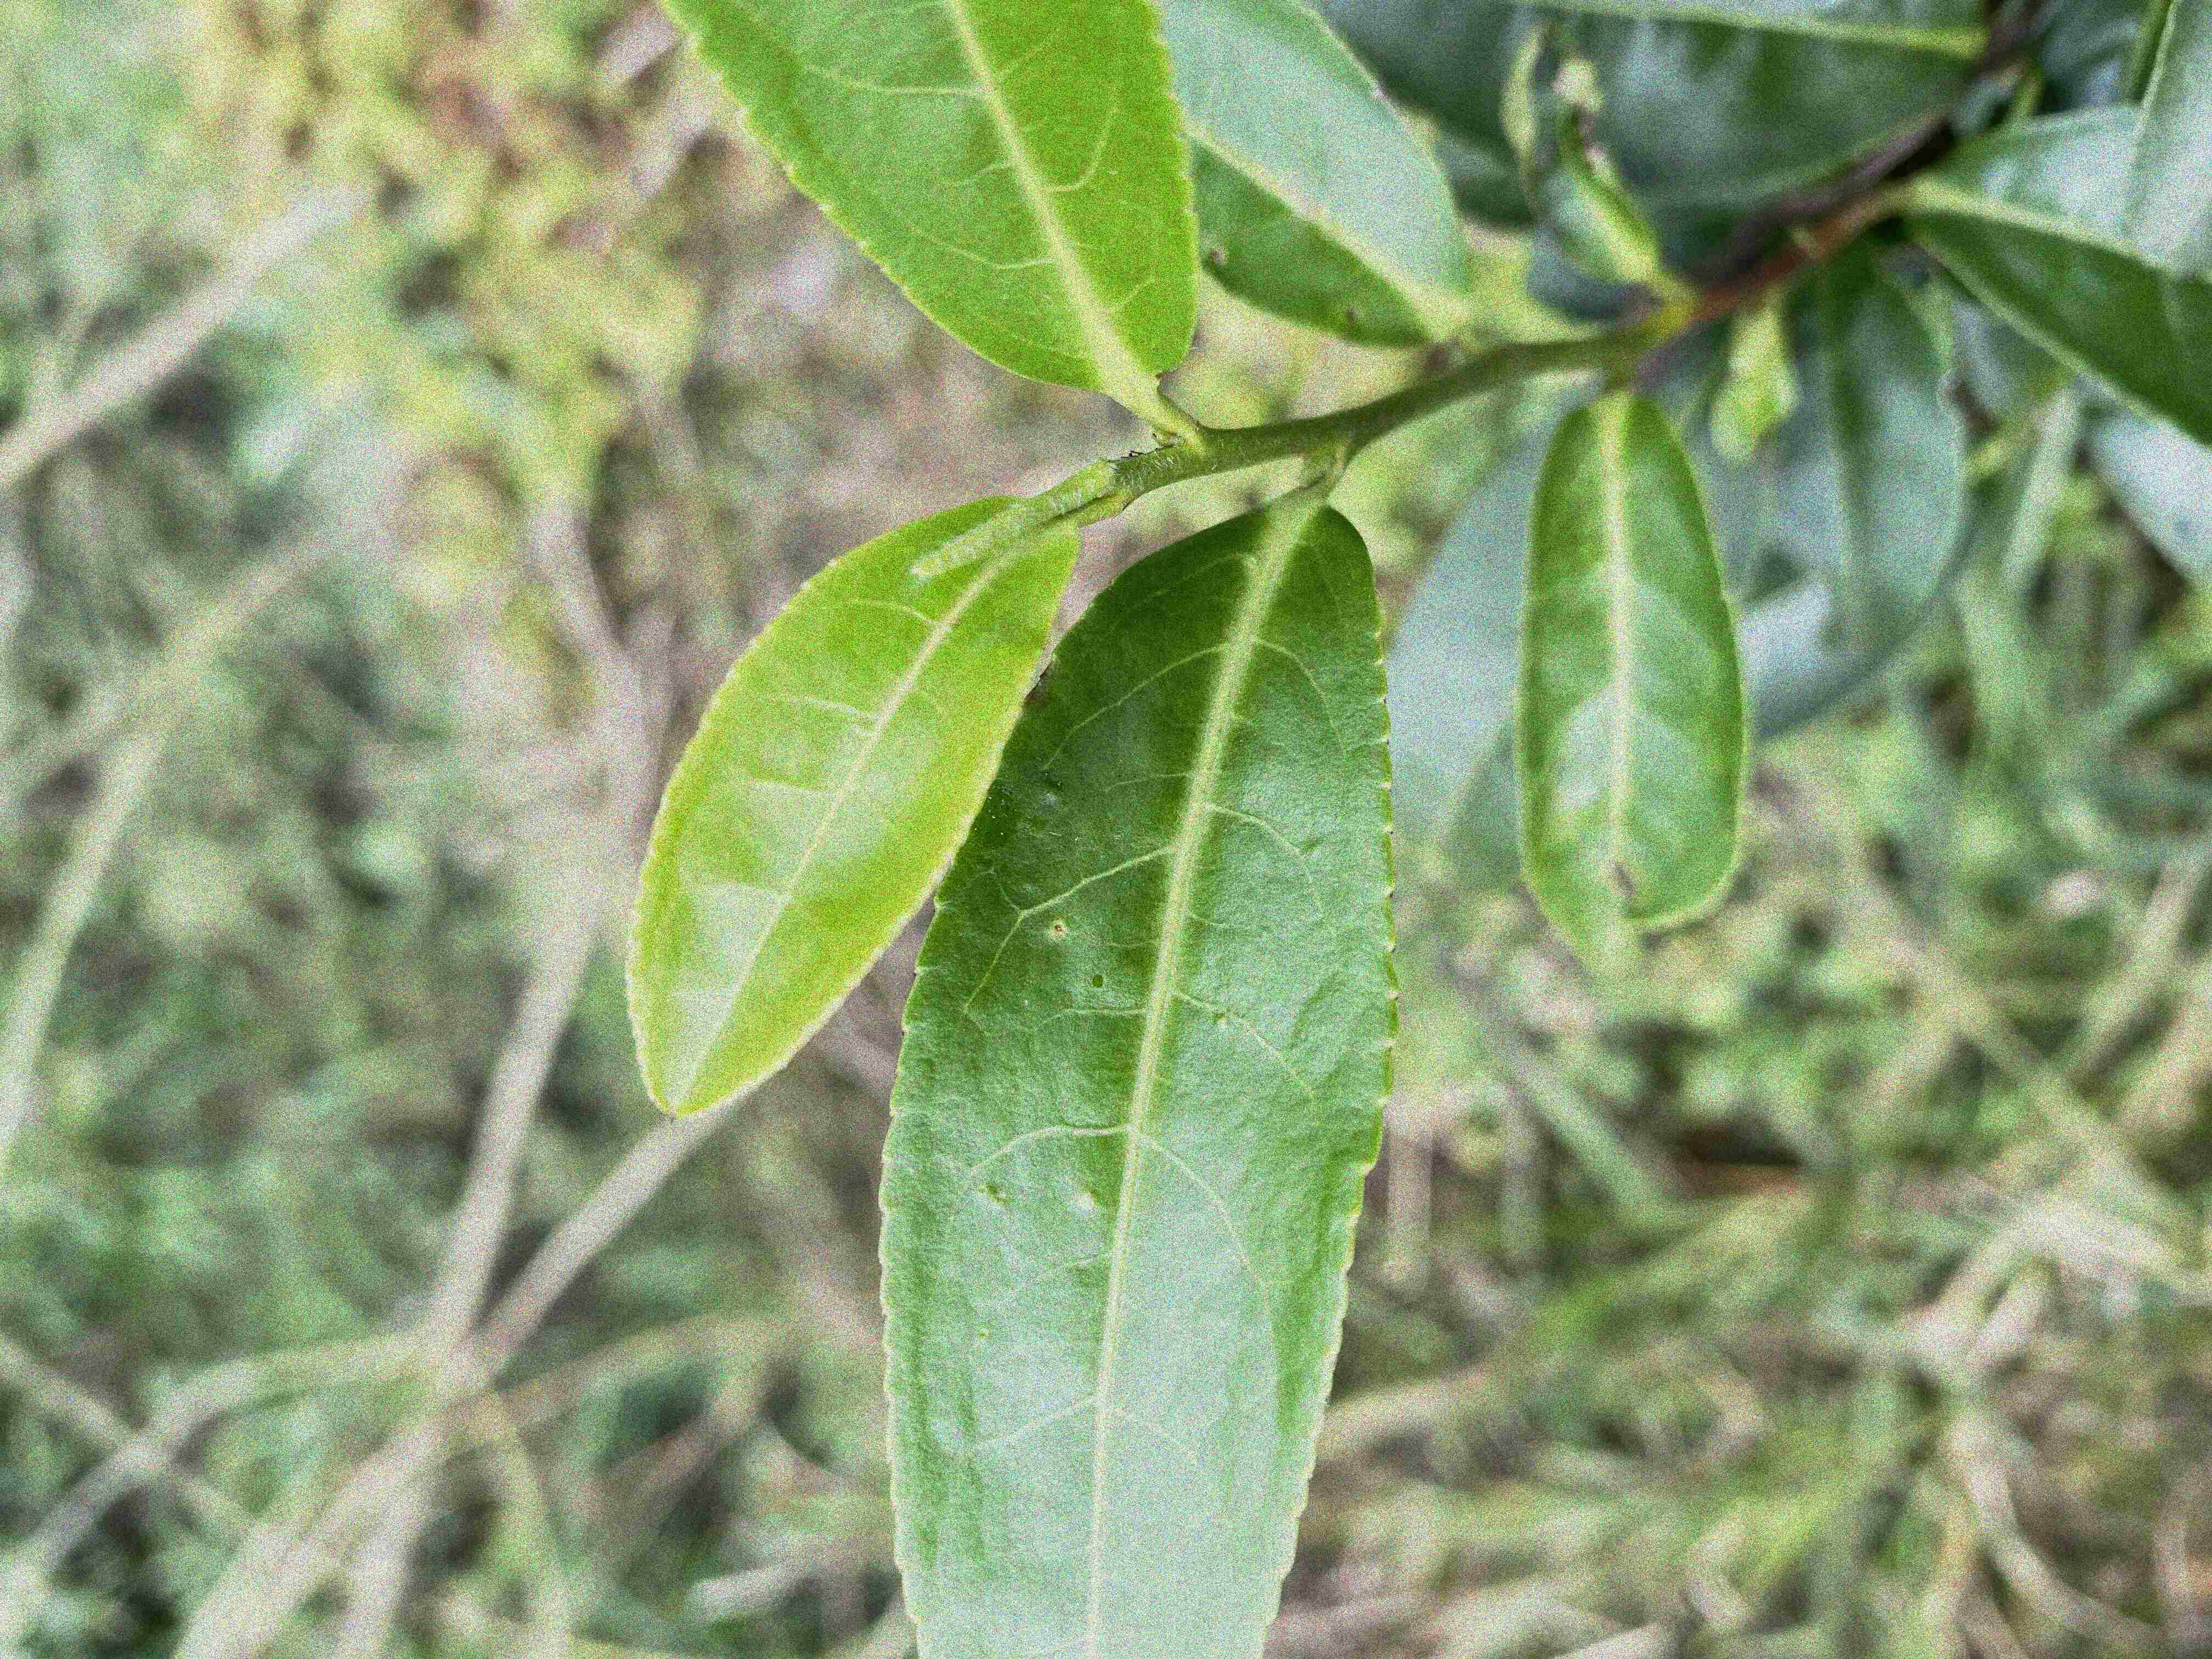healthy: (876, 495, 1402, 1657), (622, 493, 1083, 1121), (651, 3, 1200, 394)
